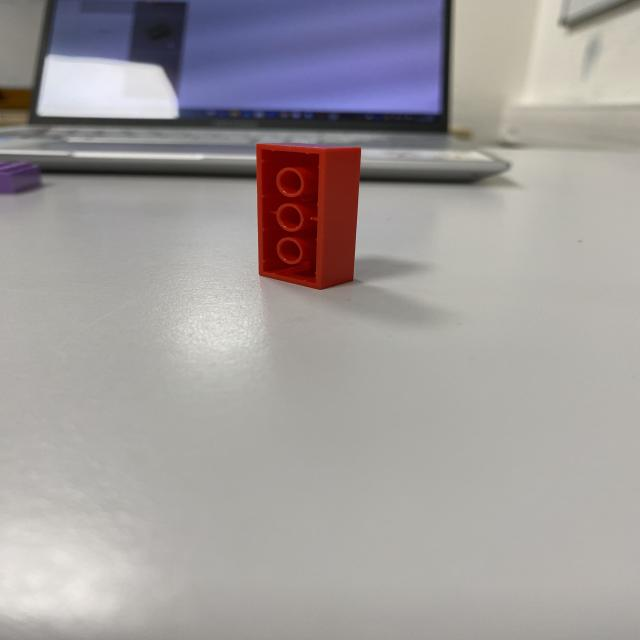C4x2x1: (259, 140, 357, 273), (318, 146, 362, 290)
